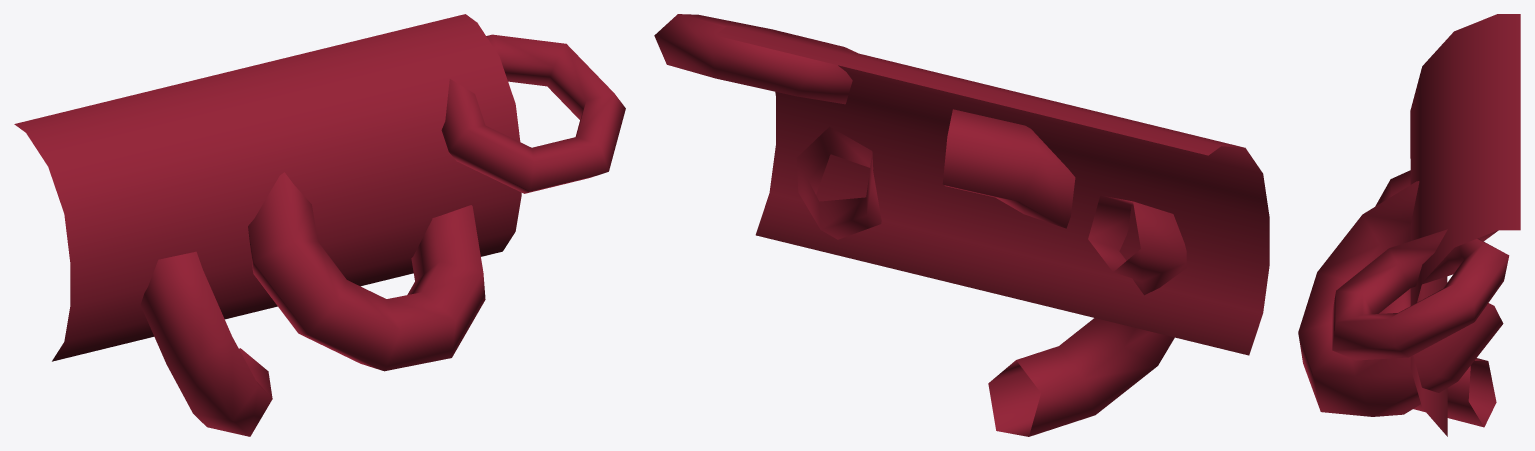
Rendered from Surface_FrontUp00.fbx.
3 renders of one model, left to right at view 1: azimuth 30°, elevation 25°; view 2: azimuth 150°, elevation 25°; view 3: azimuth 270°, elevation 25°, orthographic. The views are drawn at different scales.
Visible parts, largest first — view 1: Surface_FrontUp00; view 2: Surface_FrontUp00; view 3: Surface_FrontUp00.
Boxes of the visible parts, bbox=[...] form: Surface_FrontUp00: bbox=[14, 14, 625, 436]; Surface_FrontUp00: bbox=[654, 14, 1269, 436]; Surface_FrontUp00: bbox=[1298, 14, 1520, 436].
Bounding box in the file's own units: 2428 × 1343 × 870.
